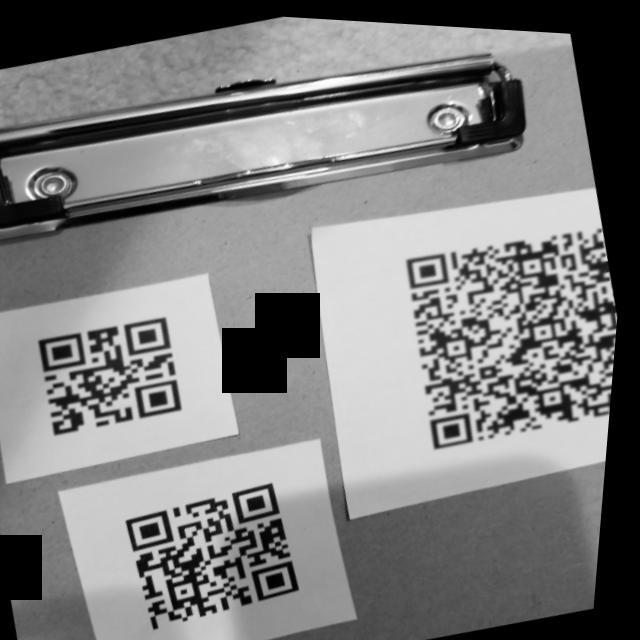QR_CODE: (376, 186, 629, 461), (115, 457, 335, 640), (21, 289, 216, 452)
